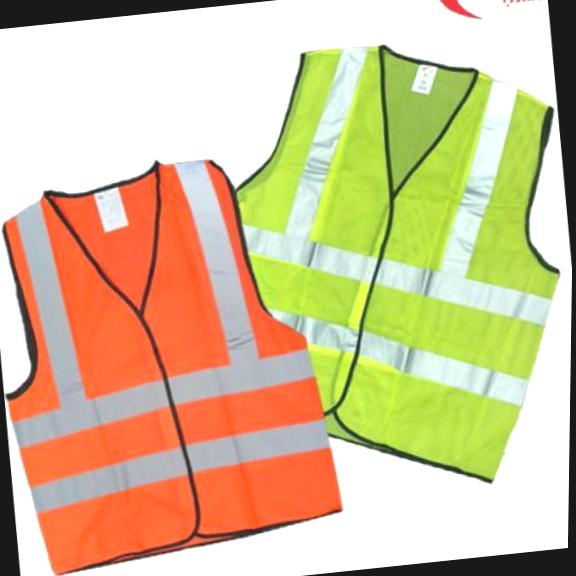safety_vest: (215, 18, 576, 505), (0, 142, 354, 576)
